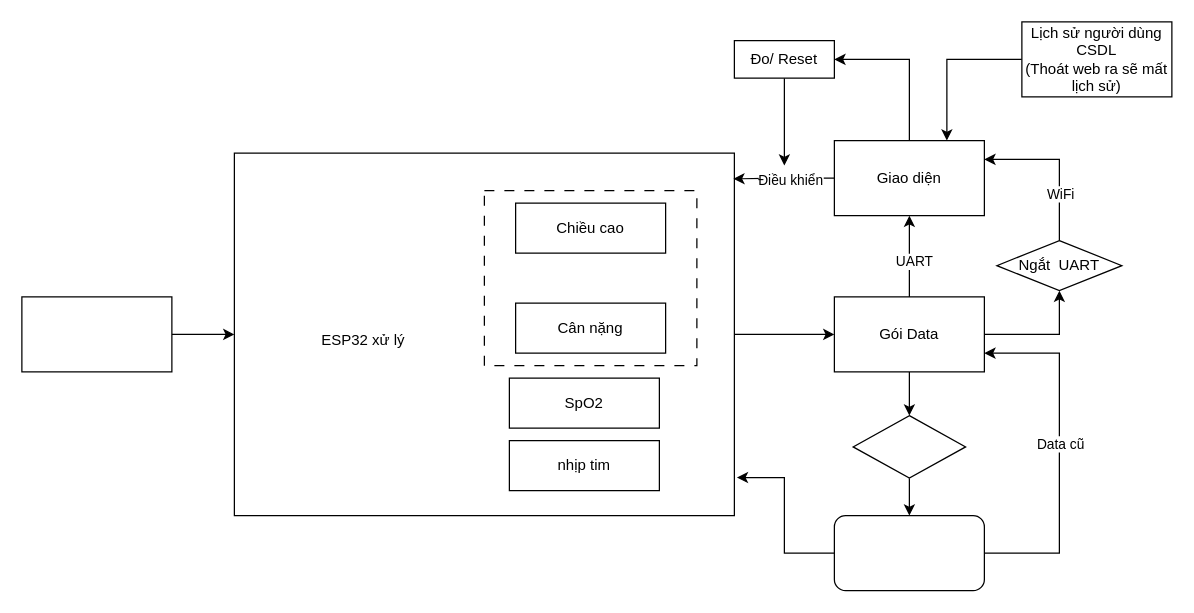
The diagram is 1194 pixels wide and 613 high, and some of its shapes have lost their labels. Here are the shapes that lost their labels. From the top down, the box of each, then its label:
(483, 189, 697, 366): BMI
(21, 296, 172, 372): Lấy dữ liệu từ cảm biến
(852, 414, 966, 478): Ngắt kết nối
(833, 514, 984, 591): EEPROM (Lịch sử vẫn lưu)
